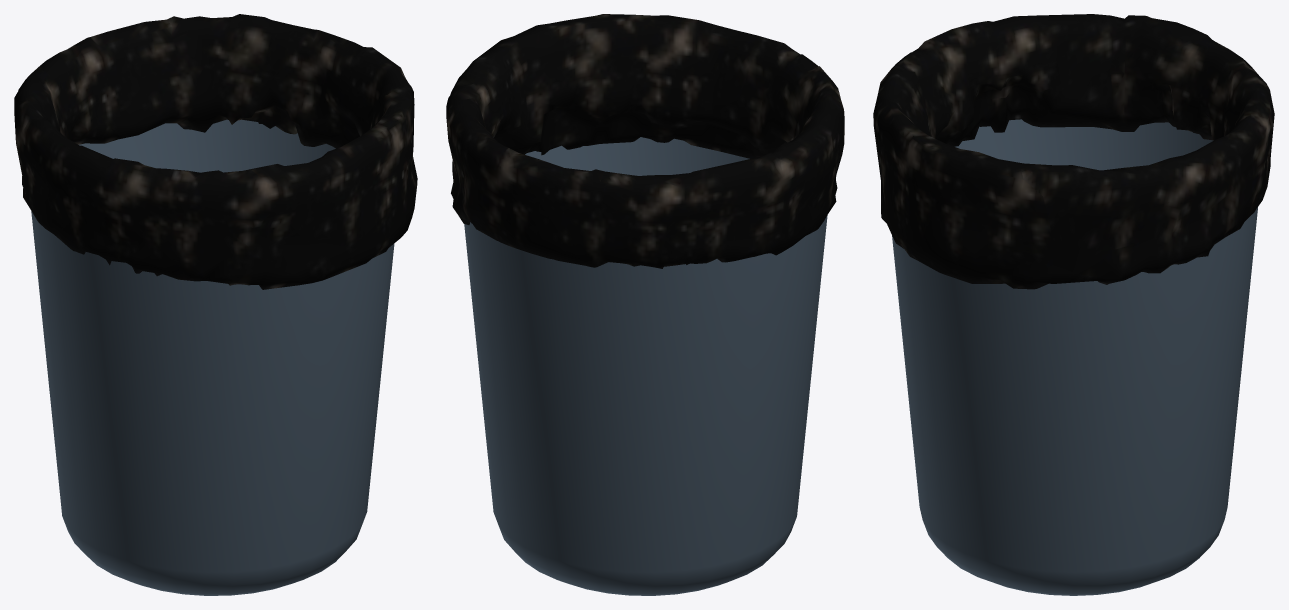
Rendered from trash_can (1).glb.
3 views of the same model, side by side, from view 1: azimuth 30°, elevation 25°; view 2: azimuth 150°, elevation 25°; view 3: azimuth 270°, elevation 25° (orthographic).
Visible parts, largest first — view 1: balti_low, plastic_low; view 2: balti_low, plastic_low; view 3: balti_low, plastic_low.
Part boxes in pixels (<box>): balti_low: <box>31,119,394,595</box>; plastic_low: <box>14,14,417,289</box>; balti_low: <box>464,137,827,595</box>; plastic_low: <box>446,14,844,268</box>; balti_low: <box>892,119,1257,595</box>; plastic_low: <box>873,14,1274,289</box>.
Bounding box in the file's own units: 0.4674 × 0.5874 × 0.4642.
Materials: 2 (2 with a texture image).
